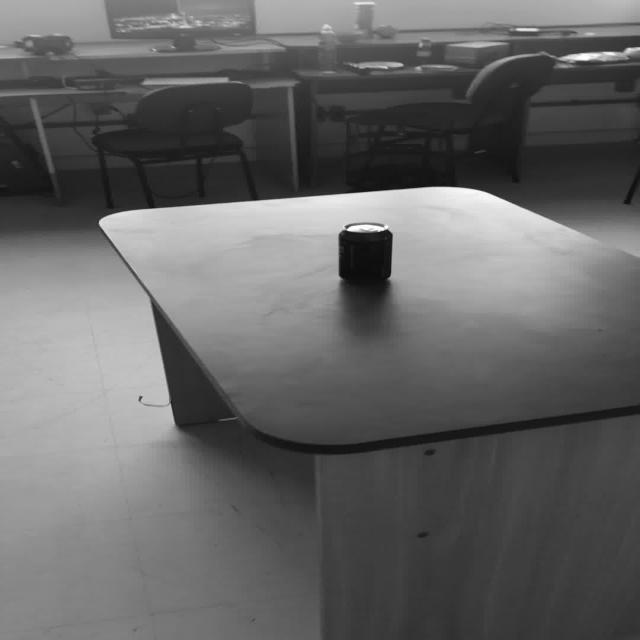tonic: (336, 221, 392, 280), (316, 23, 337, 74), (352, 1, 375, 38), (414, 37, 432, 64)
